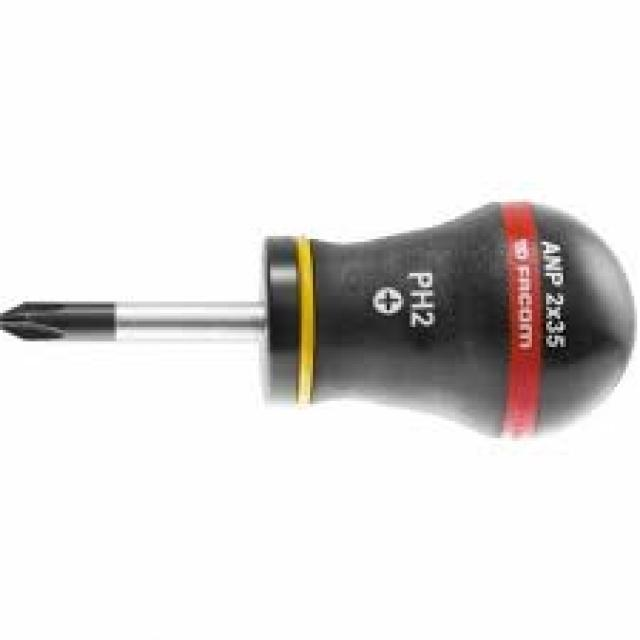screwdriver: (0, 195, 640, 442)
